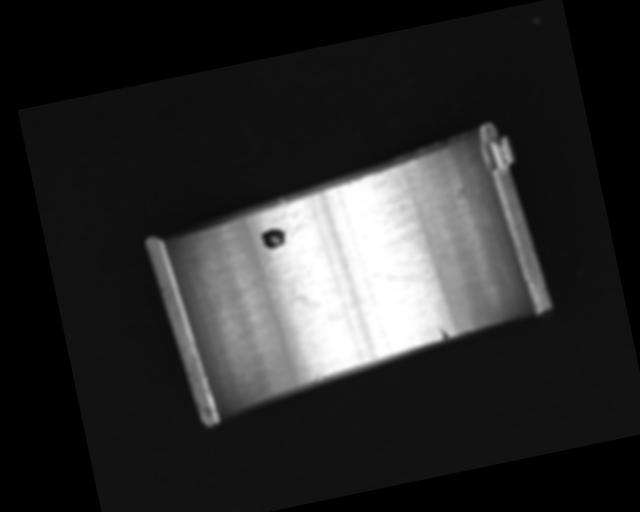blot: (263, 263, 323, 318), (259, 225, 289, 252)
bruise: (438, 325, 450, 341), (314, 373, 324, 383)
